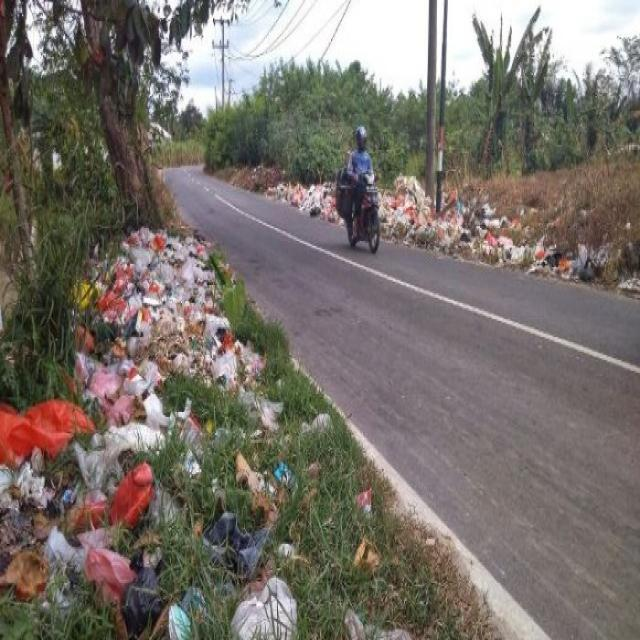trash: (7, 205, 255, 620), (407, 178, 542, 288)
